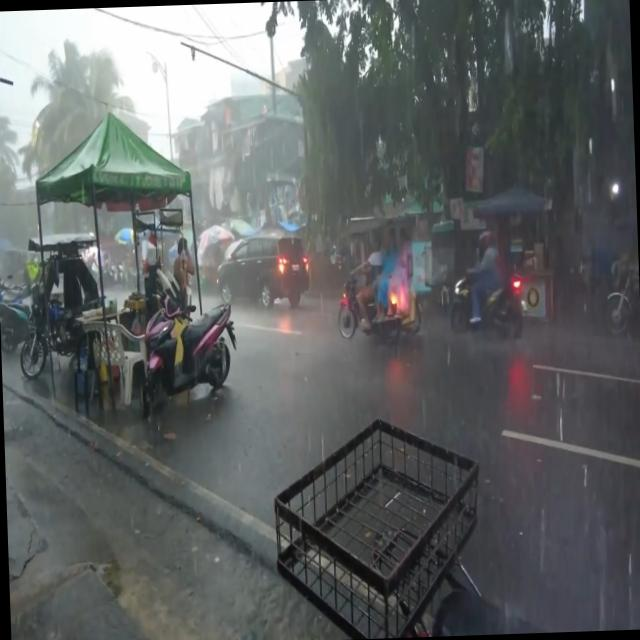full: (478, 229, 492, 252)
